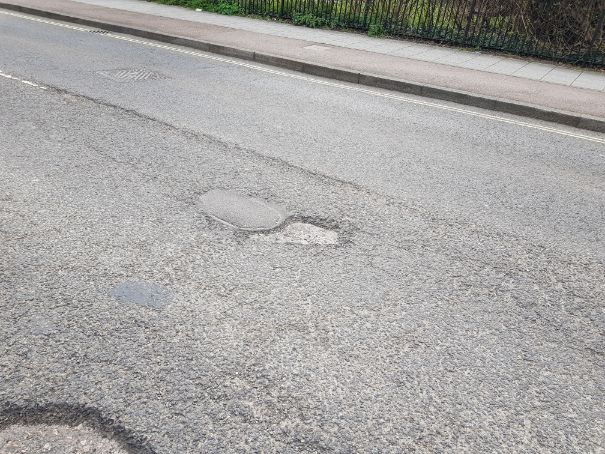pothole: (1, 395, 160, 453), (241, 210, 350, 249)
